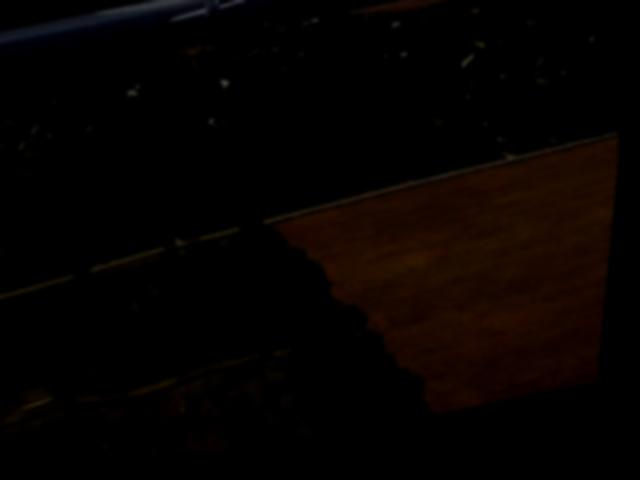iha: (85, 0, 365, 53)
